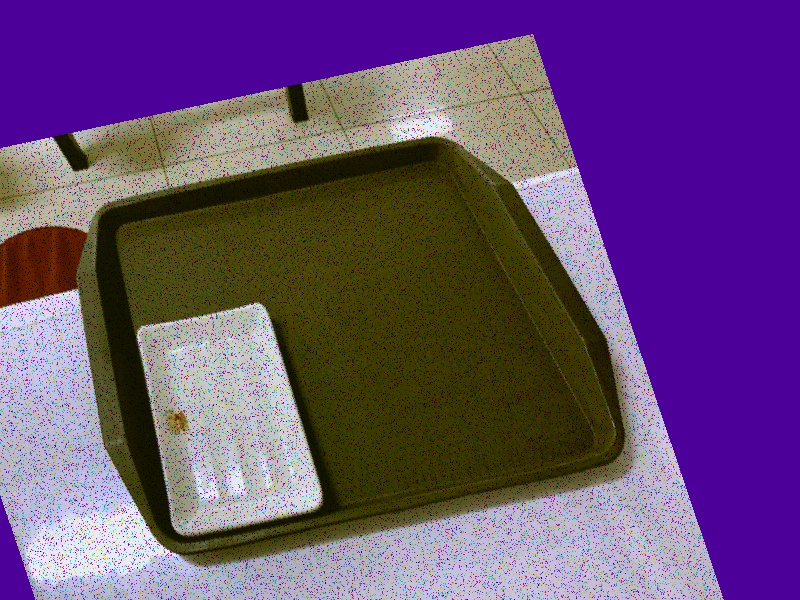dish4: (105, 296, 340, 546)
